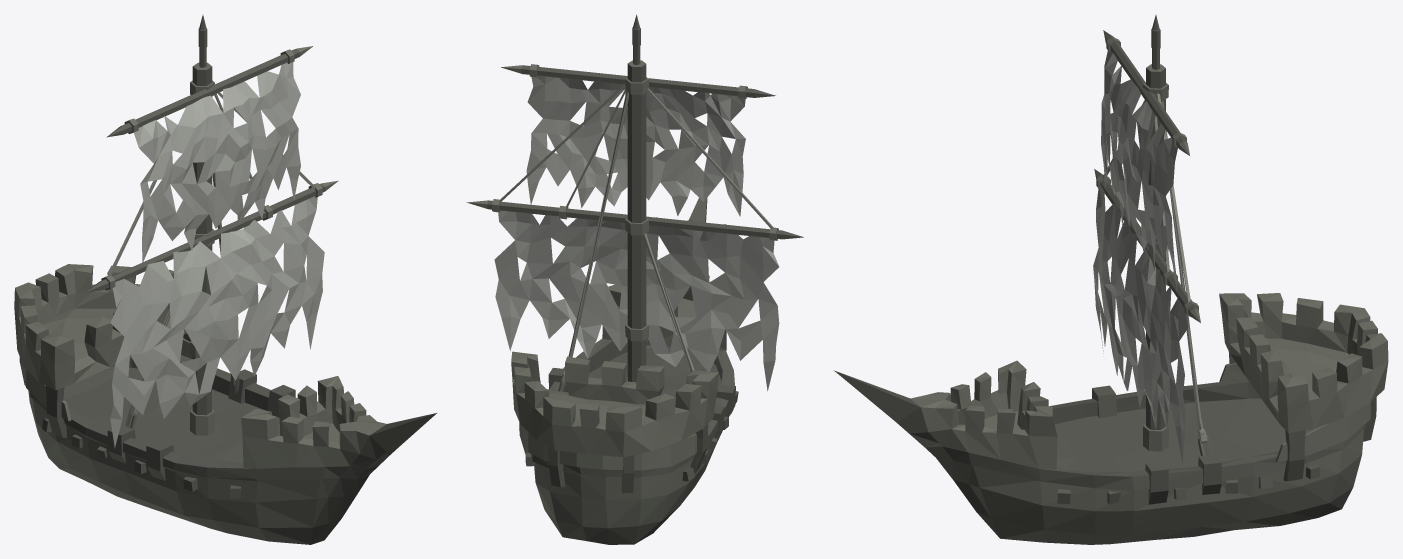
Rendered from ghostShip.fbx.
3 renders of one model, left to right at view 1: azimuth 30°, elevation 25°; view 2: azimuth 150°, elevation 25°; view 3: azimuth 270°, elevation 25°, orthographic. The views are drawn at different scales.
Parts seen in each view (by area): view 1: ghostShip; view 2: ghostShip; view 3: ghostShip.
Boxes of the visible parts, x1,y1,x2,y2 form: ghostShip: (14, 15, 436, 544); ghostShip: (466, 14, 803, 544); ghostShip: (834, 15, 1388, 544).
Bounding box in the file's own units: 2.29 × 3.46 × 3.47.
